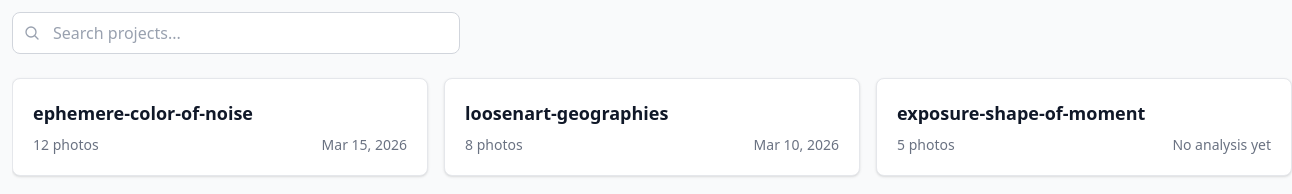
Test: Dashboard › filters projects by search query
Expected: the heading "ephemere-color-of-noise" is shown, [33,101,253,125]
Type "ephemere" into the search field with placeholder "Search projects..." at (236, 33), box [12,12,460,54]
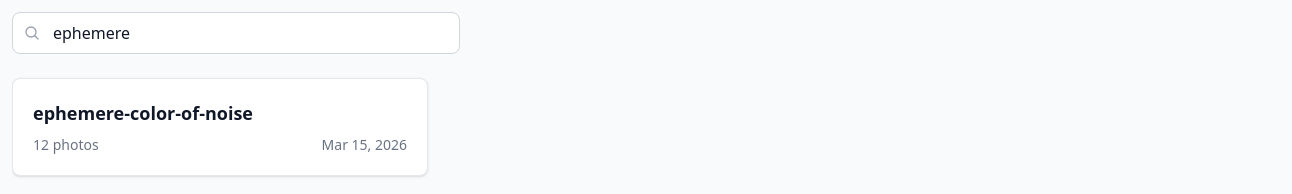
Expected: the heading "ephemere-color-of-noise" is shown, [33,101,253,125]
Expected: the link "loosenart-geographies" is gone
